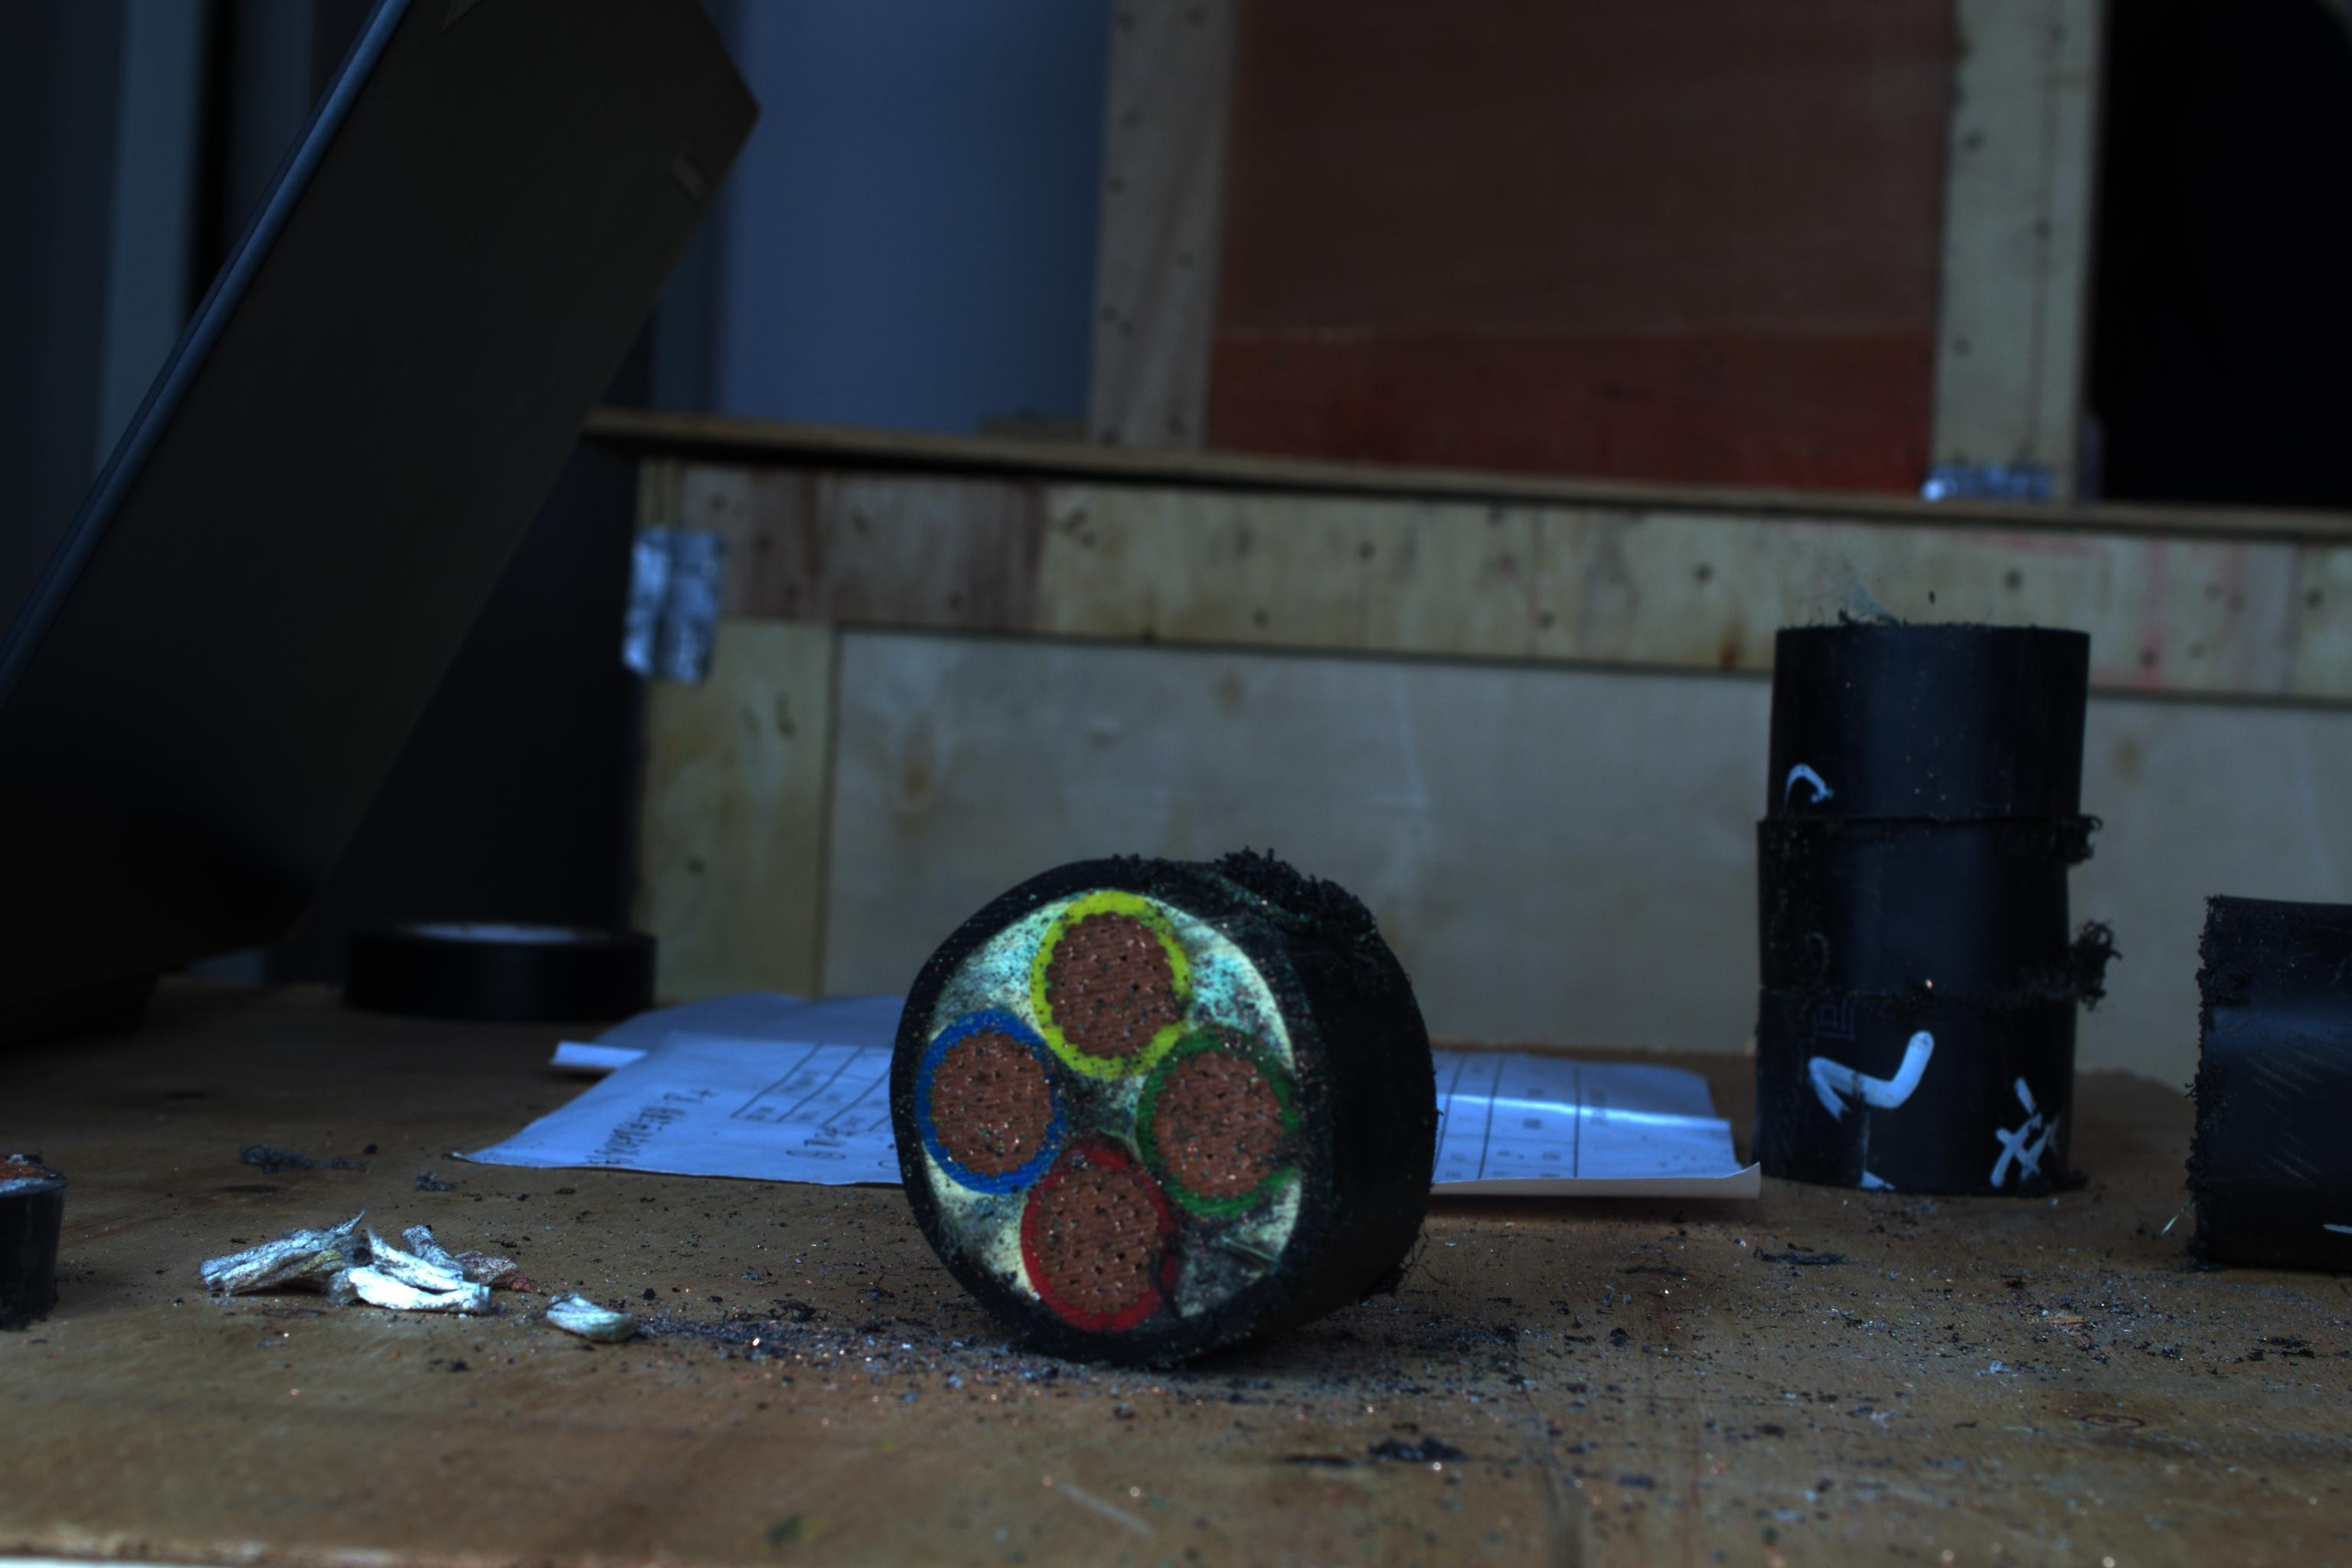YJV_0.6_1kV_4x185: (899, 866, 1323, 1340)
